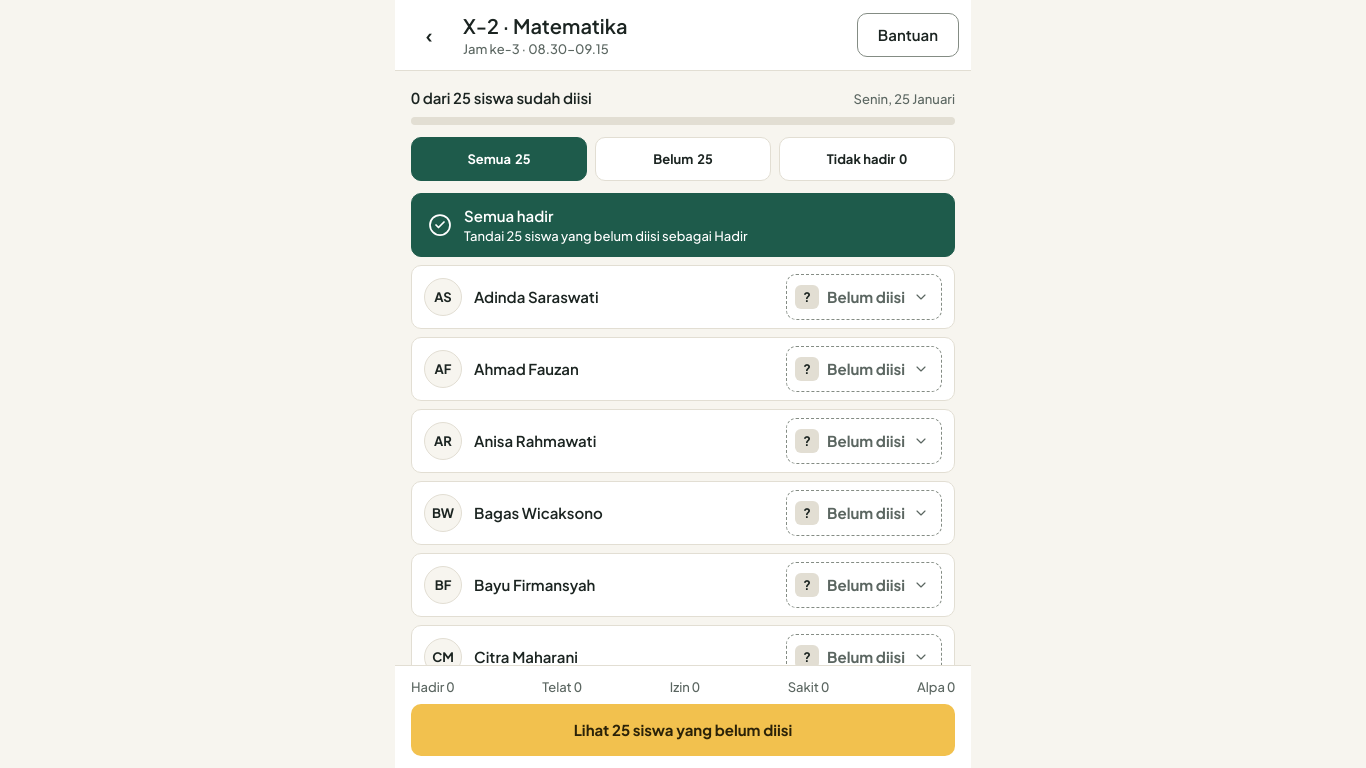
Scenario: step 4: choose a reason in the sheet › Batal closes the sheet and changes nothing, and focus goes back to the row
Click the button "Semua hadir Tandai 25 siswa yang belum diisi sebagai Hadir" at coordinates (683, 225), box x1=411 y1=193 x2=955 y2=257
(page scrolled)
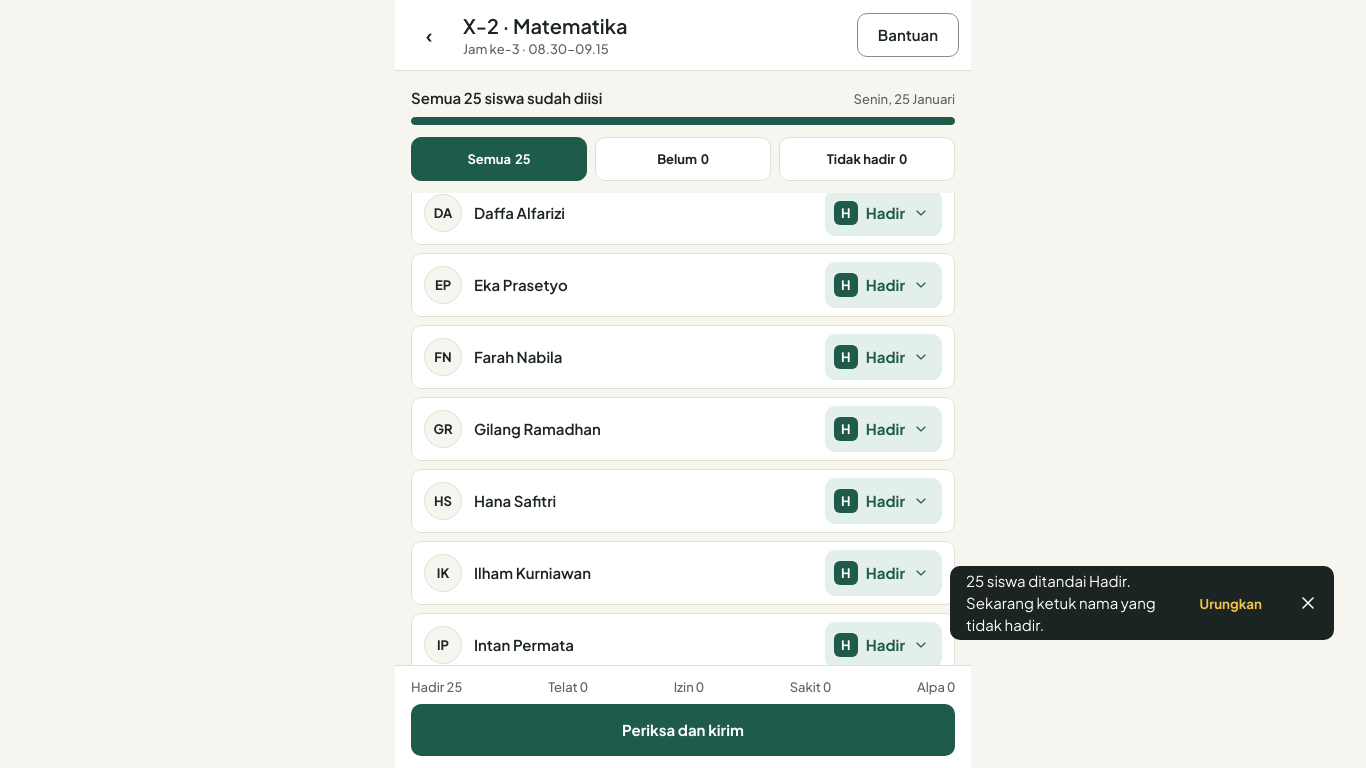
Click the button with aria-label "Gilang Ramadhan: Hadir. Ketuk untuk mengubah." at coordinates (443, 429), box x1=411 y1=397 x2=955 y2=461
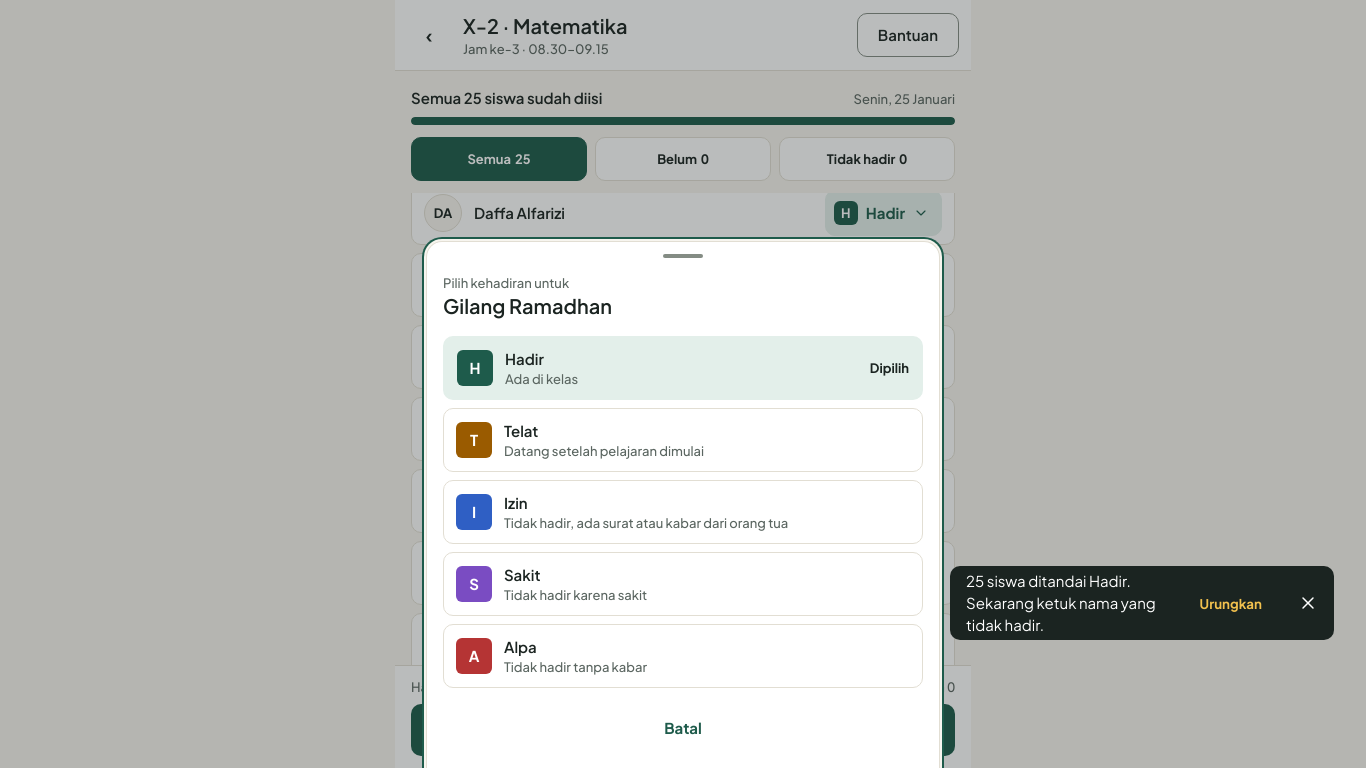
Click the button "Batal" at coordinates (683, 728), box x1=443 y1=704 x2=923 y2=752
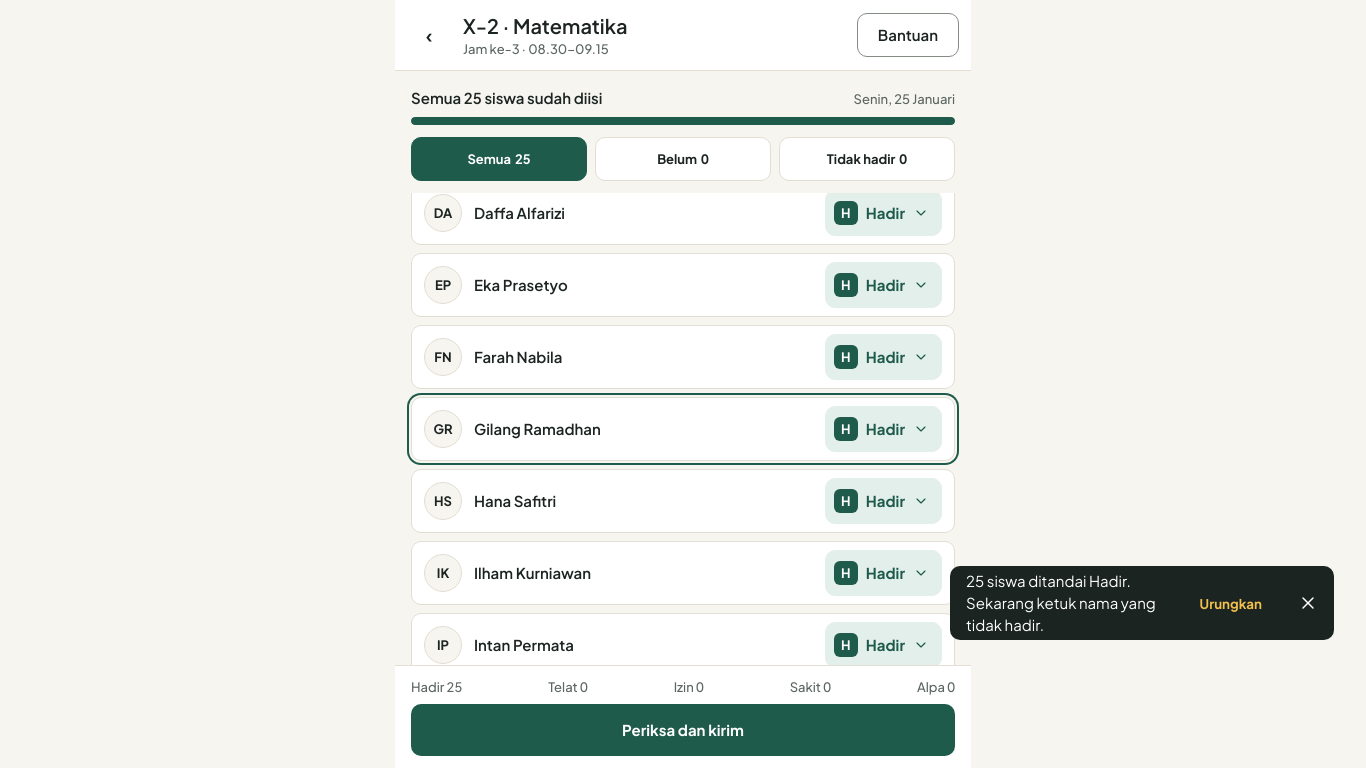
Expected: the button with aria-label "Gilang Ramadhan: Hadir. Ketuk untuk mengubah." is shown, x1=411 y1=397 x2=955 y2=461
Expected: the dialog is gone
